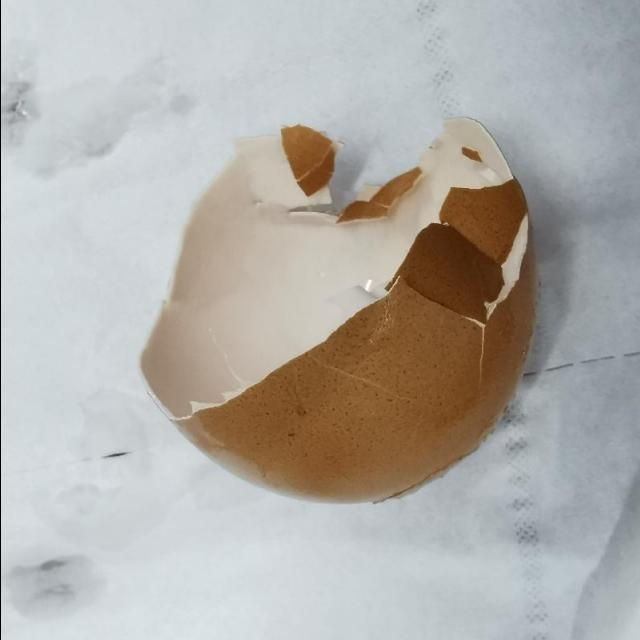egg shell: (132, 110, 536, 510)
